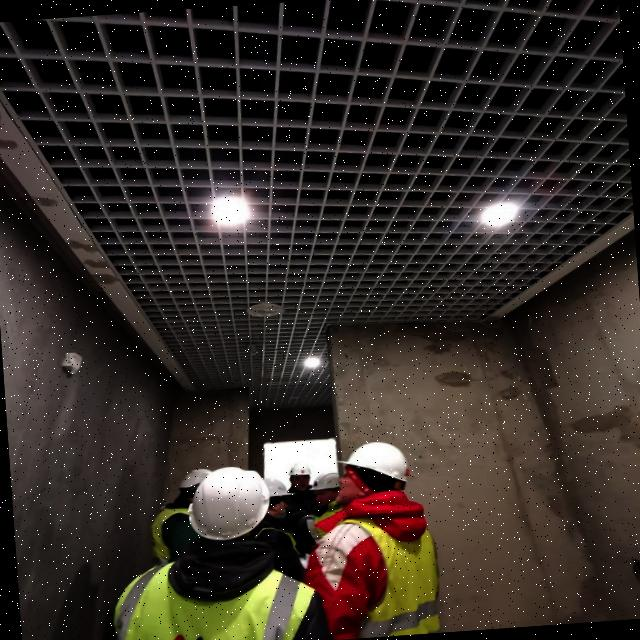Helmet: (182, 465, 274, 544), (335, 441, 411, 494), (309, 472, 342, 499), (270, 477, 298, 505), (179, 470, 208, 491), (288, 463, 312, 482)
Jacket: (137, 537, 300, 640), (331, 493, 444, 640), (152, 499, 198, 559)
